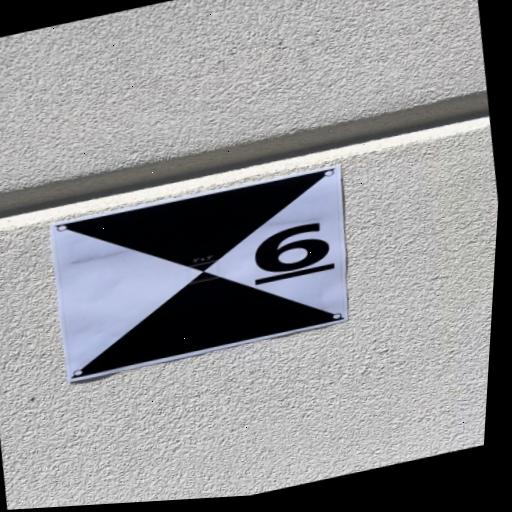target6: (50, 165, 348, 386)
